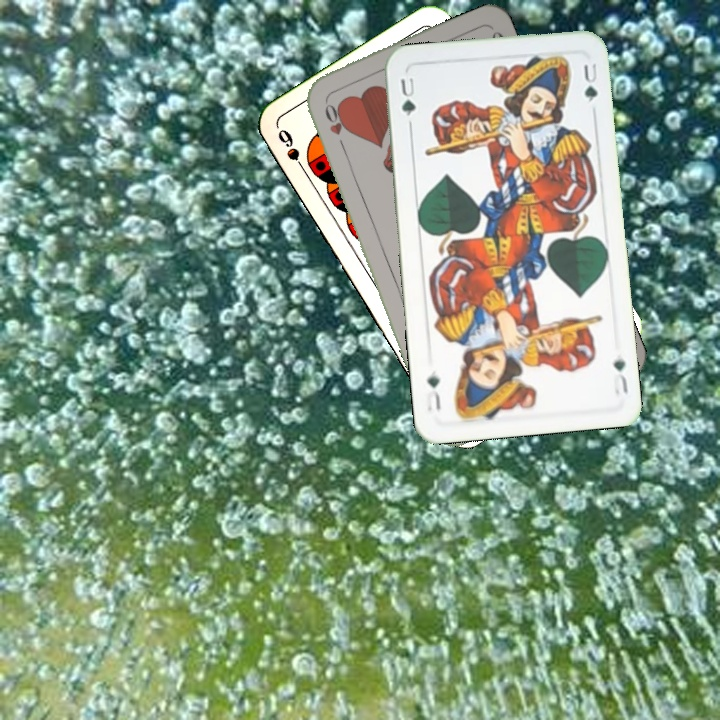GU: (396, 73, 419, 119), (609, 354, 630, 397)
HO: (320, 96, 348, 153)
S9: (273, 125, 311, 179)
